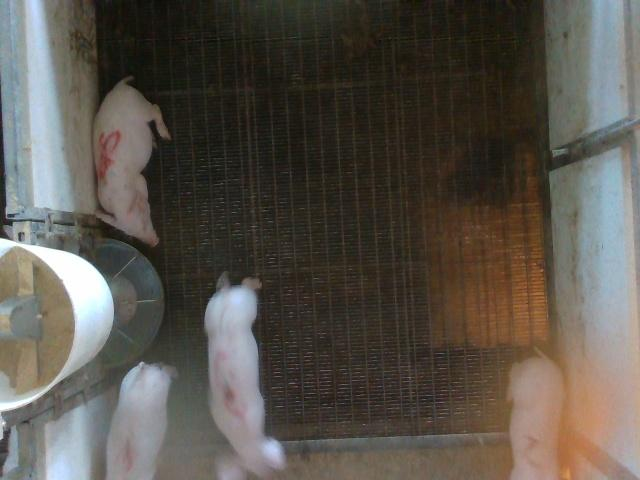pig-1: (106, 362, 171, 478)
pig-2: (508, 352, 562, 478)
pig-3: (205, 272, 285, 479)
pig-5: (94, 76, 171, 246)
